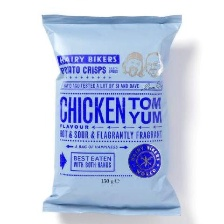snack: (35, 8, 189, 221)
